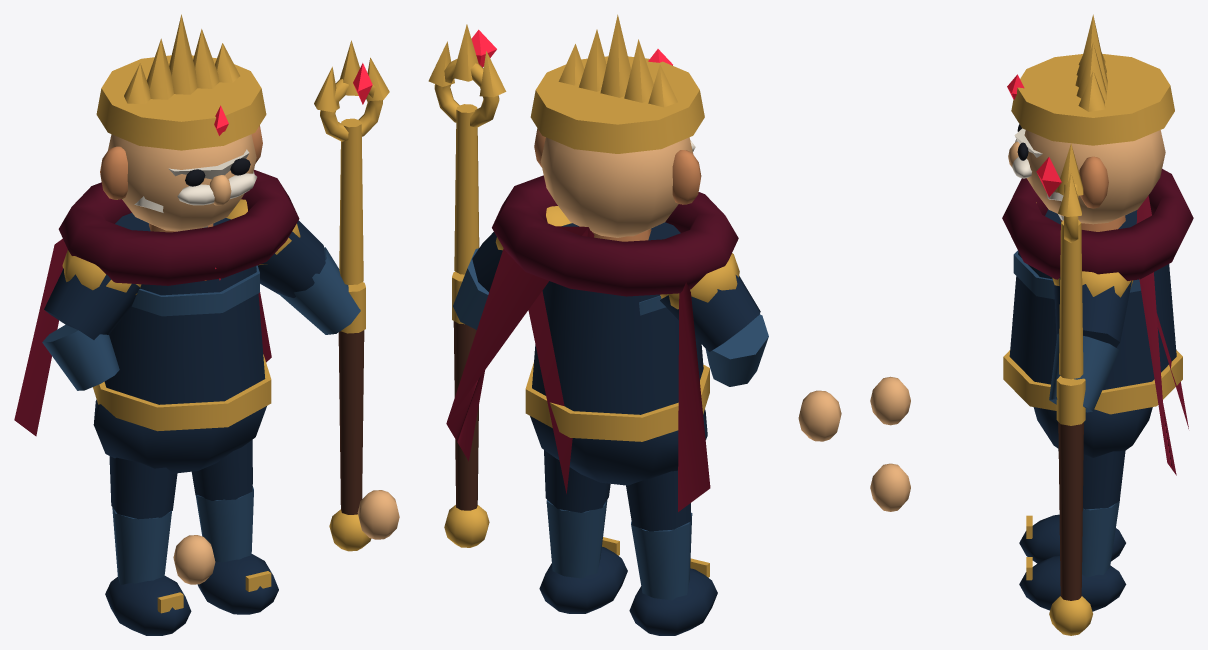
File: king.glb
3 views of the same model, side by side, from view 1: azimuth 30°, elevation 25°; view 2: azimuth 150°, elevation 25°; view 3: azimuth 270°, elevation 25° (orthographic). The views are drawn at different scales.
Parts seen in each view (by area): view 1: Torso_Armor, Cape_Collar, Crown_Base, Head, Pelvis_Armor, Royal_Belt, Scepter_WoodShaft, Cape_ClothPanels, Left_UpperArm, Scepter_UpperShaft, Left_Shin, Left_Boot (+24 smaller); view 2: Cape_Collar, Torso_Armor, Cape_ClothPanels, Crown_Base, Head, Pelvis_Armor, Royal_Belt, Left_Shin, Scepter_UpperShaft, Right_Shin, Left_Boot, Right_Boot (+19 smaller); view 3: Crown_Base, Cape_Collar, Torso_Armor, Head, Scepter_WoodShaft, Royal_Belt, Scepter_UpperShaft, Pelvis_Armor, Right_Boot, Right_UpperArm, Cape_ClothPanels, Right_Shin (+16 smaller).
Part boxes in pixels (x1=…): Torso_Armor: x1=104, y1=213, x2=265, y2=404; Cape_Collar: x1=58, y1=169, x2=299, y2=285; Crown_Base: x1=96, y1=55, x2=266, y2=150; Head: x1=108, y1=134, x2=256, y2=231; Pelvis_Armor: x1=93, y1=399, x2=266, y2=473; Royal_Belt: x1=93, y1=354, x2=271, y2=431; Scepter_WoodShaft: x1=338, y1=330, x2=364, y2=514; Cape_ClothPanels: x1=14, y1=238, x2=271, y2=436; Left_UpperArm: x1=44, y1=268, x2=140, y2=339; Scepter_UpperShaft: x1=339, y1=118, x2=363, y2=284; Left_Shin: x1=112, y1=507, x2=171, y2=585; Left_Boot: x1=105, y1=576, x2=191, y2=635; Cape_Collar: x1=492, y1=175, x2=738, y2=296; Torso_Armor: x1=532, y1=222, x2=703, y2=414; Cape_ClothPanels: x1=446, y1=226, x2=710, y2=511; Crown_Base: x1=530, y1=56, x2=704, y2=153; Head: x1=540, y1=137, x2=693, y2=237; Pelvis_Armor: x1=530, y1=409, x2=707, y2=485; Royal_Belt: x1=525, y1=362, x2=709, y2=441; Left_Shin: x1=631, y1=512, x2=692, y2=600; Scepter_UpperShaft: x1=454, y1=104, x2=479, y2=274; Right_Shin: x1=546, y1=500, x2=607, y2=578; Left_Boot: x1=629, y1=568, x2=717, y2=635; Right_Boot: x1=539, y1=547, x2=627, y2=613; Crown_Base: x1=1011, y1=54, x2=1174, y2=145; Cape_Collar: x1=1002, y1=169, x2=1193, y2=280; Torso_Armor: x1=1009, y1=209, x2=1176, y2=390; Head: x1=1024, y1=130, x2=1165, y2=224; Scepter_WoodShaft: x1=1058, y1=422, x2=1083, y2=600; Royal_Belt: x1=1003, y1=350, x2=1182, y2=414; Scepter_UpperShaft: x1=1059, y1=220, x2=1083, y2=379; Pelvis_Armor: x1=1033, y1=407, x2=1152, y2=457; Right_Boot: x1=1019, y1=556, x2=1126, y2=611; Right_UpperArm: x1=1054, y1=277, x2=1131, y2=347; Cape_ClothPanels: x1=1136, y1=195, x2=1188, y2=475; Right_Shin: x1=1082, y1=500, x2=1119, y2=577.
Bounding box in the file's own units: 2.35 × 4.03 × 2.05.
